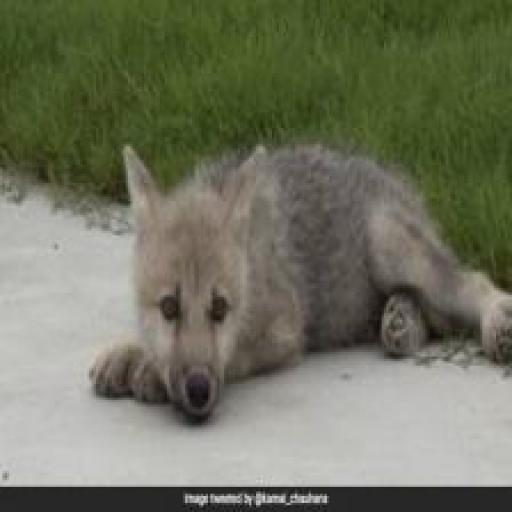wolf: (100, 128, 511, 485)
